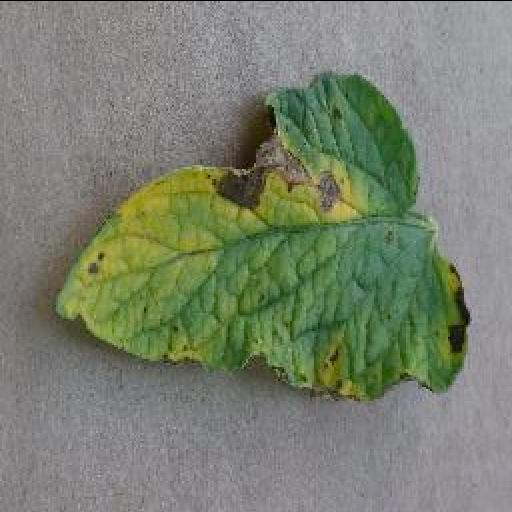disease_tomato: (50, 70, 472, 396)
